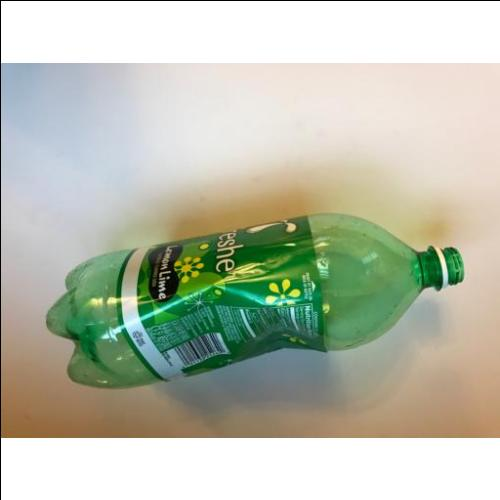plastic: (44, 212, 464, 390)
